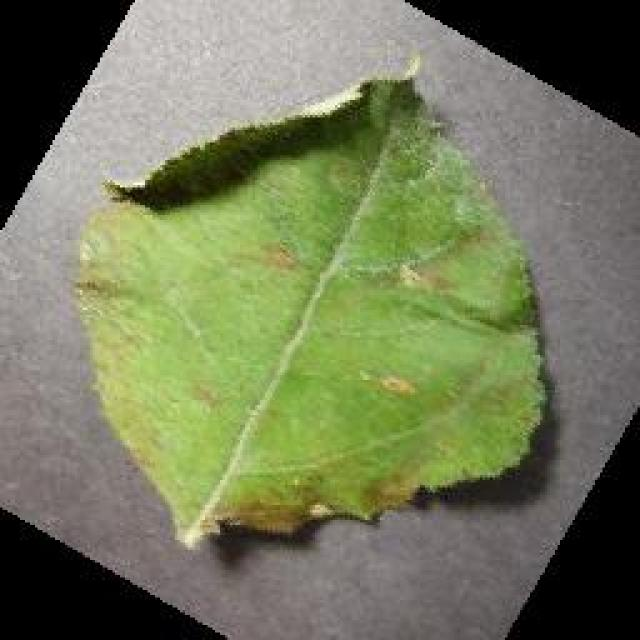apple healthy: (68, 58, 550, 548)
